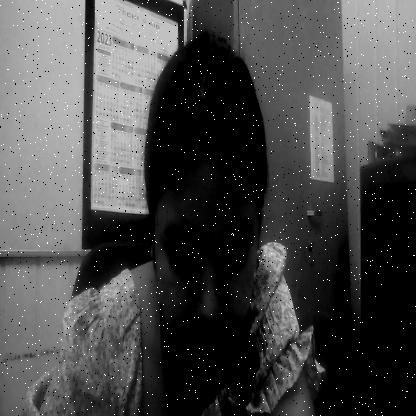Normal: (158, 155, 256, 362)
